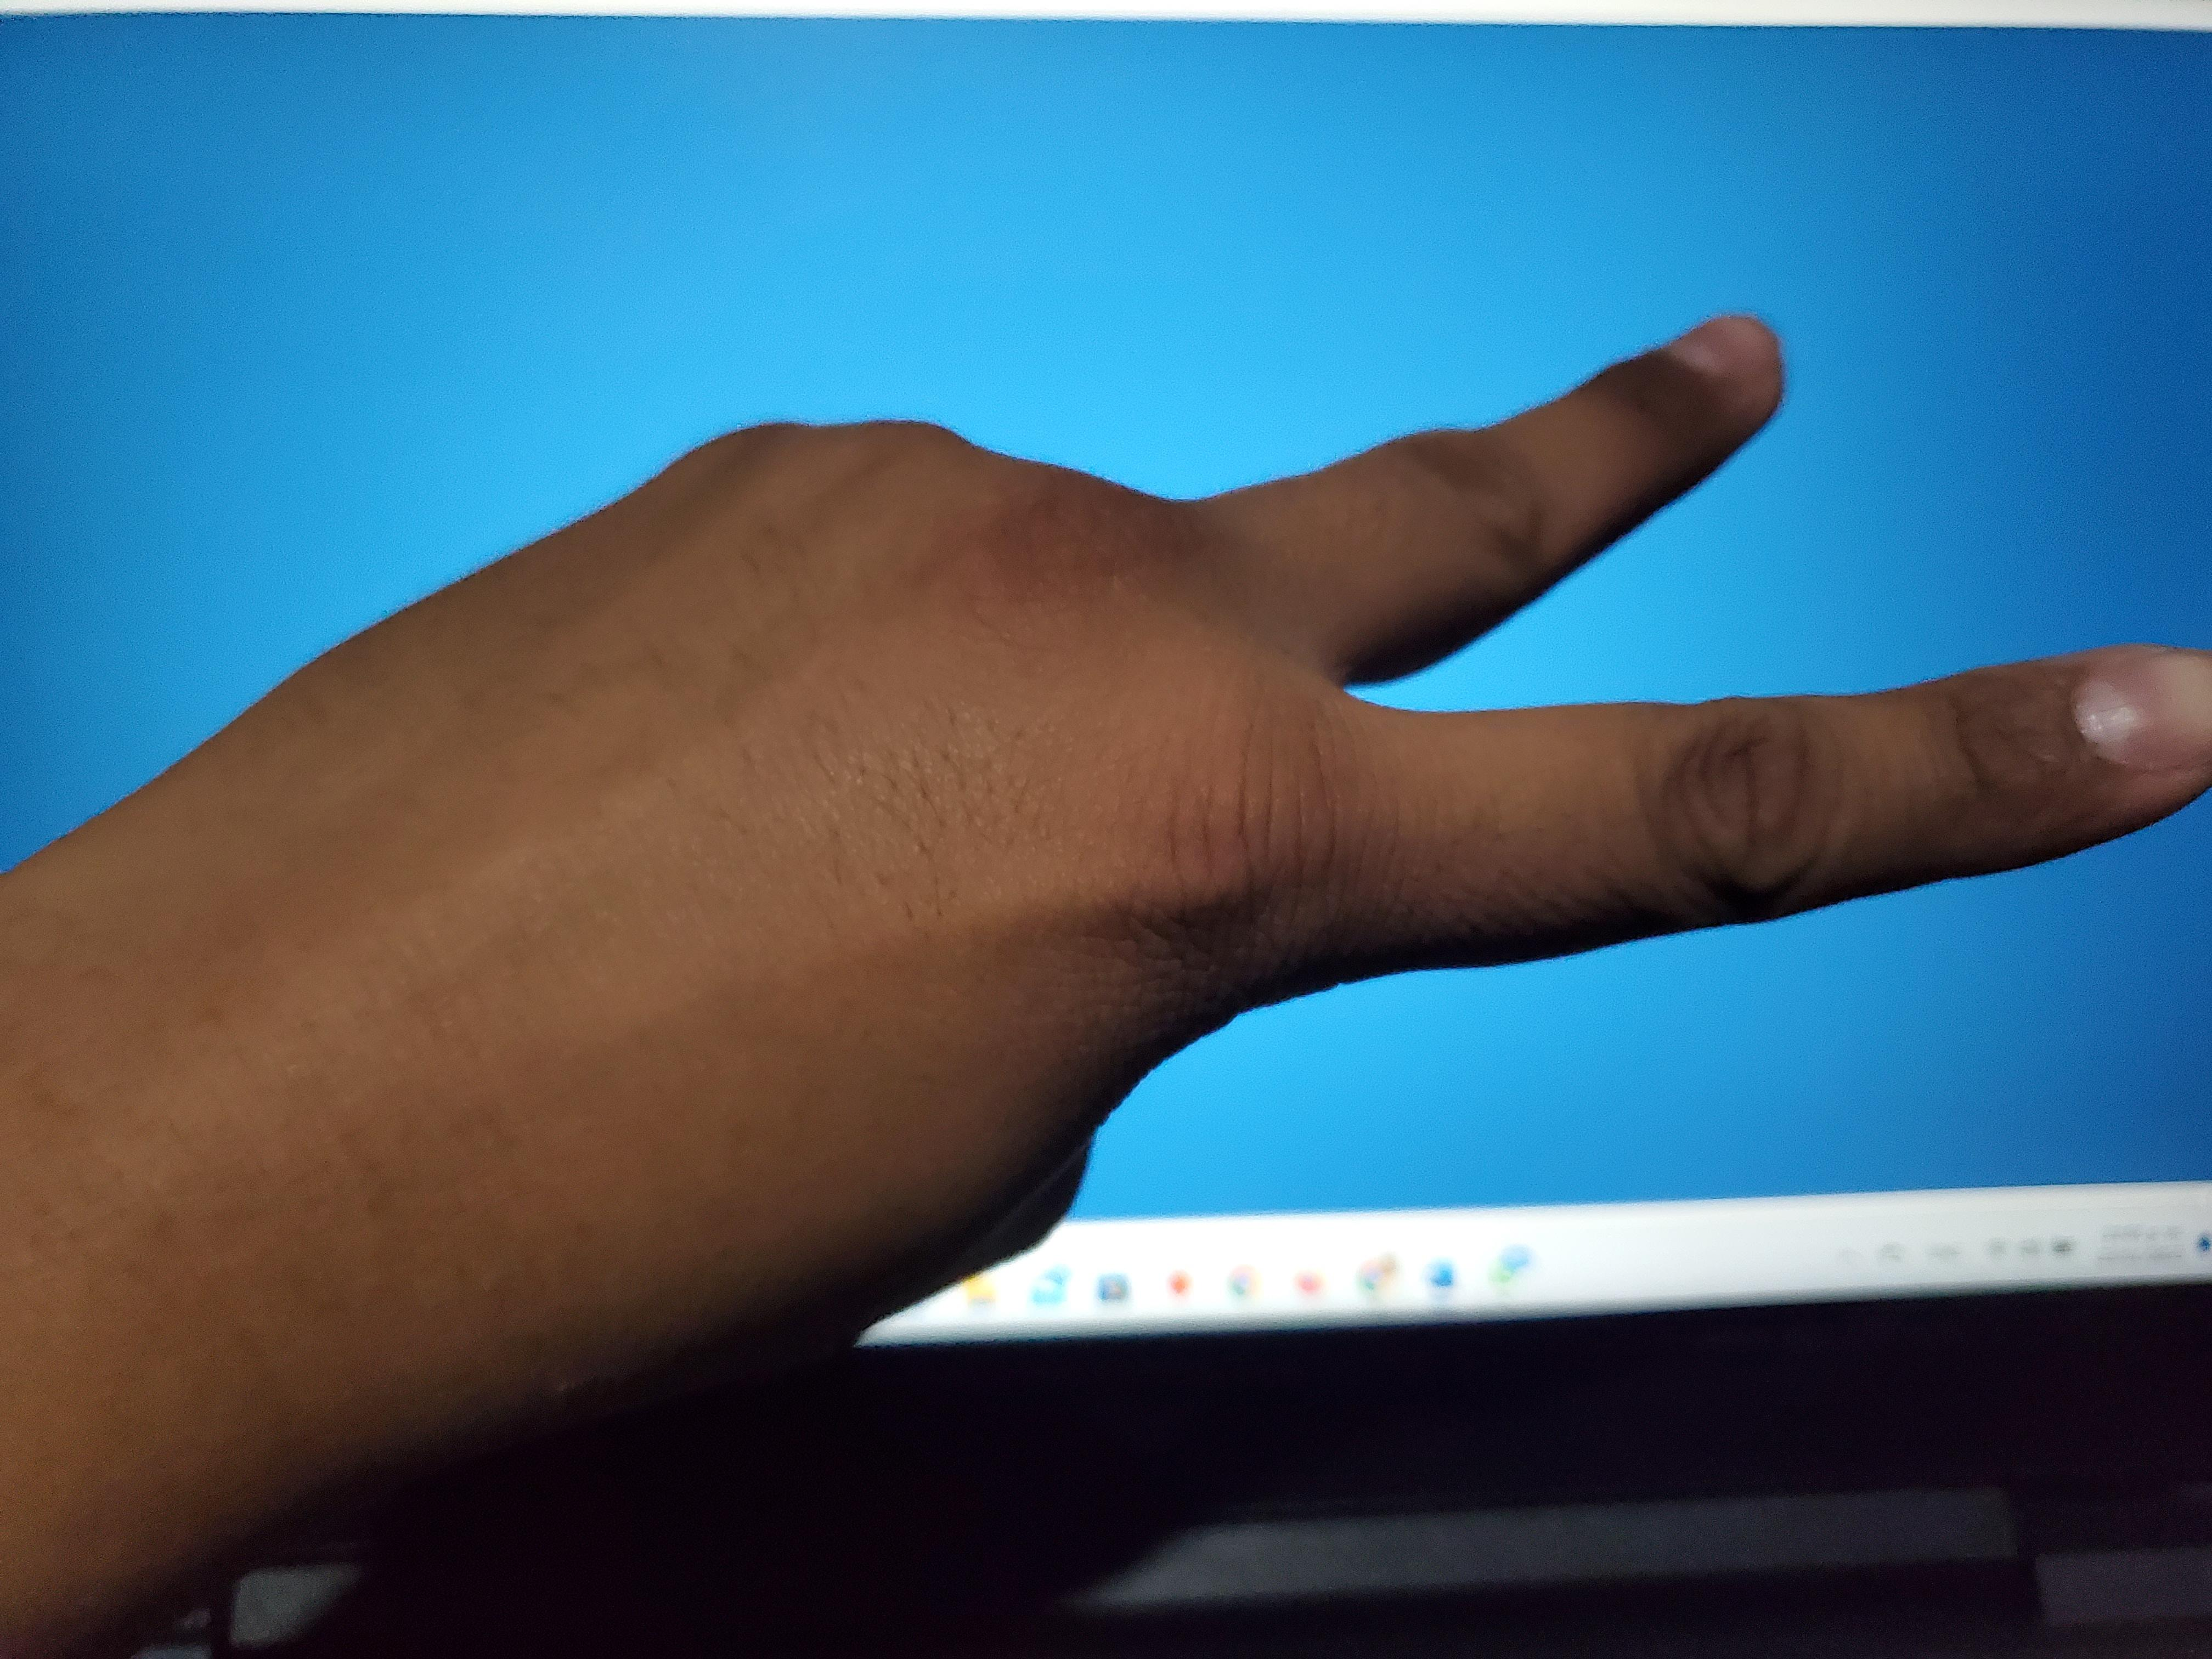Scissor: (2, 23, 2212, 1659)
